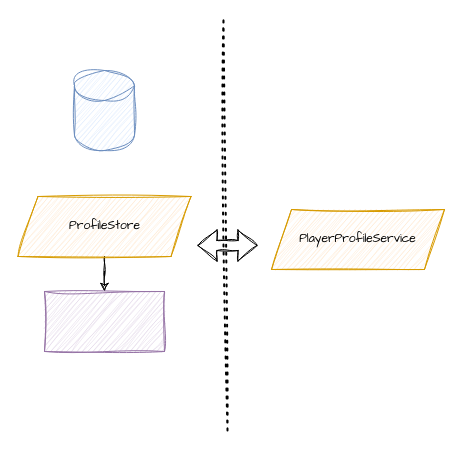
Image size: 462x449. Some labels were removed from this diagram. Each missing label, with the centre of its shape:
"db" goes at [104,110].
"PlayerProfile" goes at [104,321].
